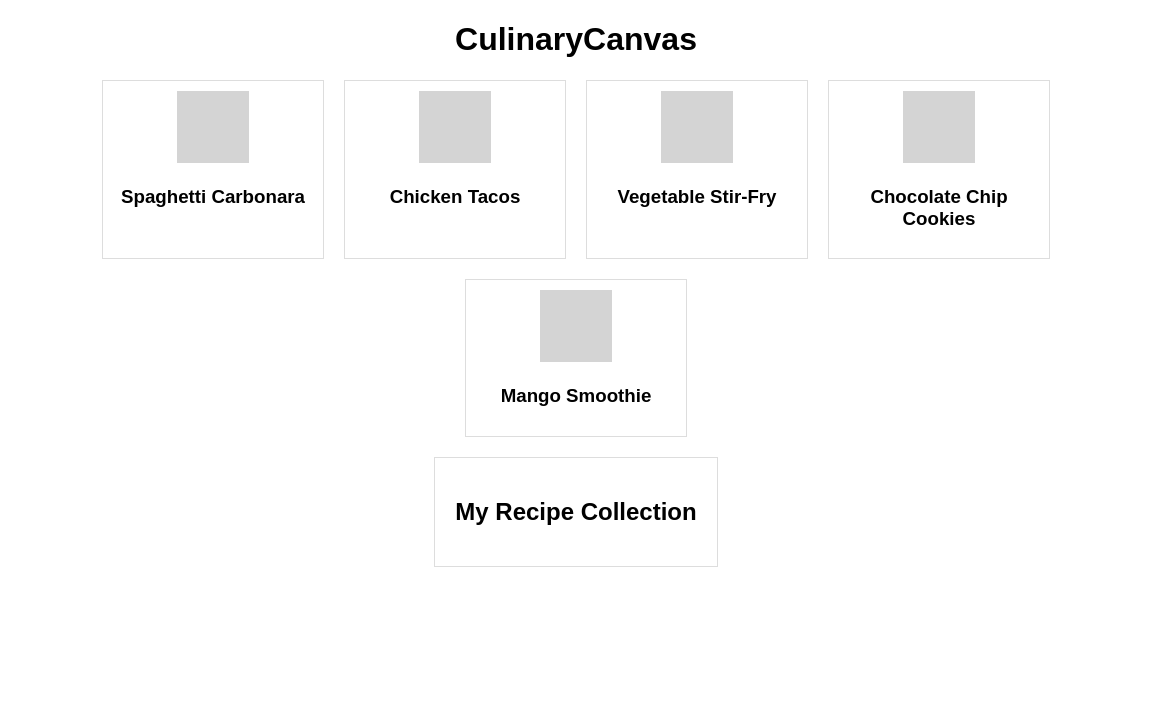
App › displays 'Save to Collection' button for the list of recipes › displays_save_to_collection_button_for_chicken_tacos
Click the heading "Chicken Tacos": click(455, 196) left=390, top=186, right=520, bottom=207
(page scrolled)
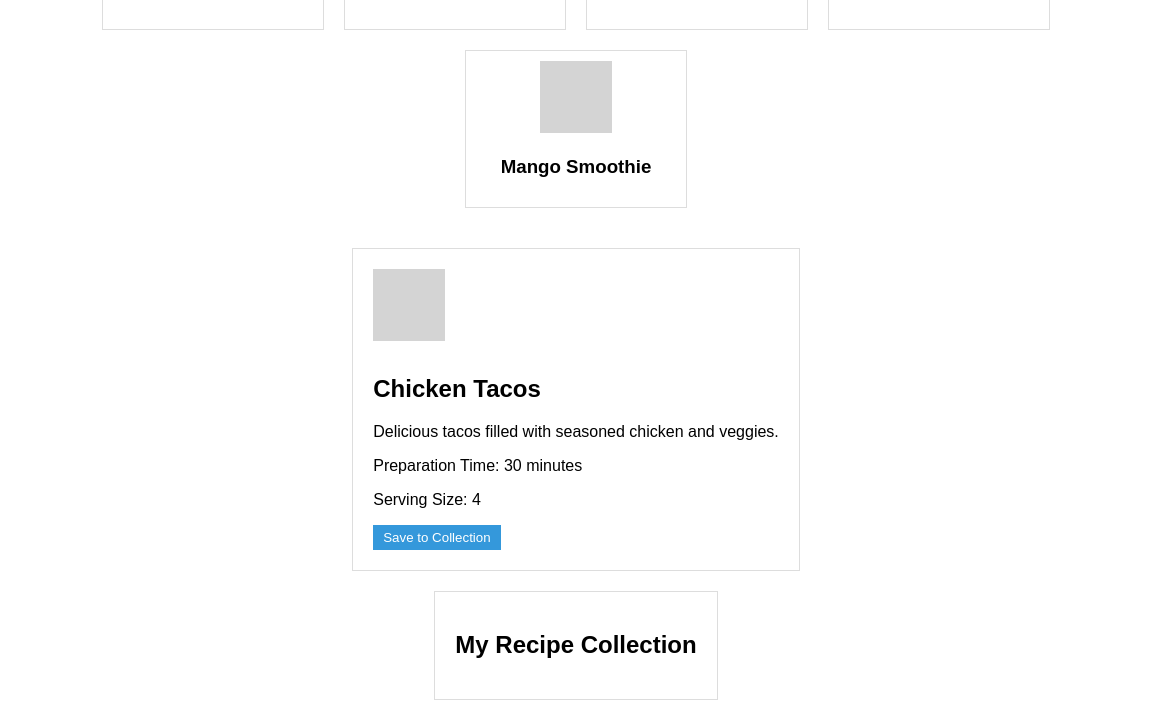
Check: the button "Save to Collection" is shown, box left=373, top=525, right=501, bottom=550
